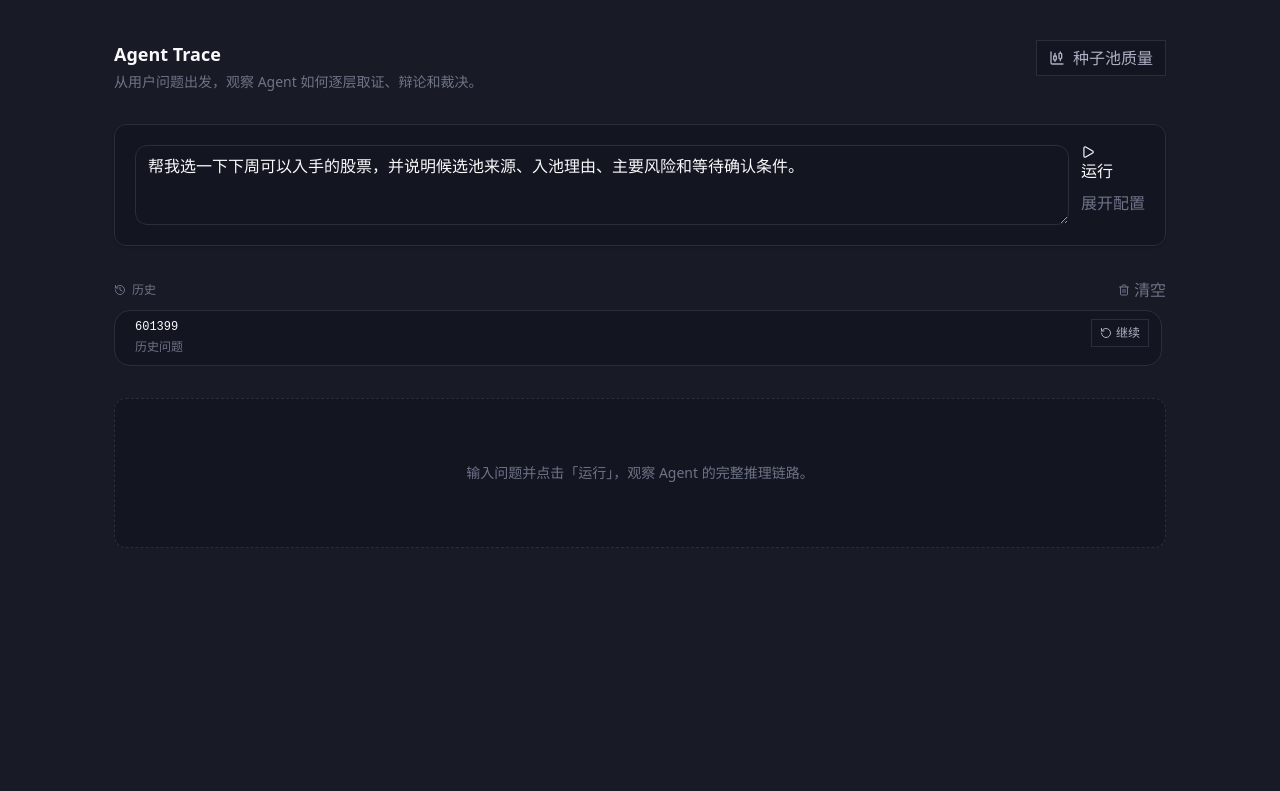
Test: AgentTracePage › loads a completed trace from local history
expect the text "历史" is shown: met, box 114,282 -> 156,298
Click the button "601399 历史问题" at (157, 327), box 127,319 -> 1083,357
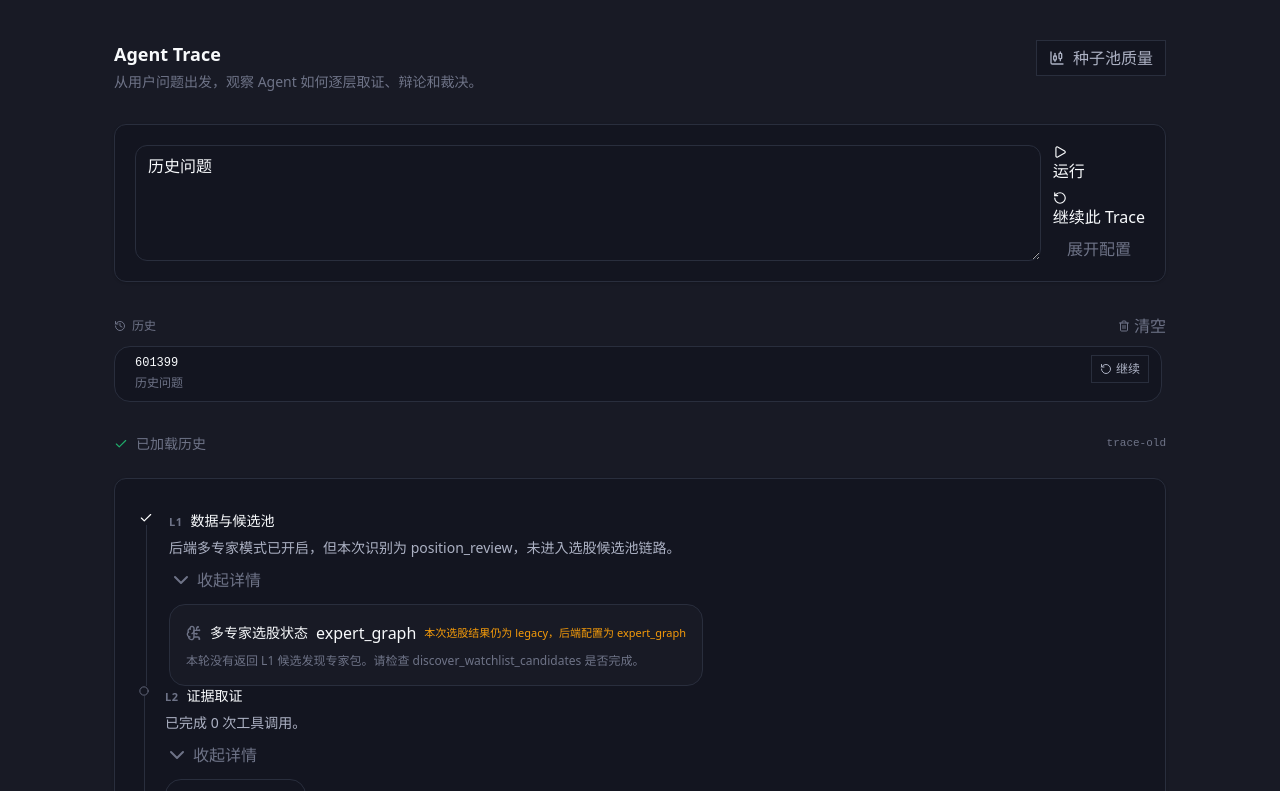
expect the text "已加载历史" is shown: met, box 136,434 -> 206,454
expect the text "expert_graph" is shown: met, box 316,621 -> 416,645
Click the button "展开配置" at (1099, 249), box 1053,237 -> 1145,261
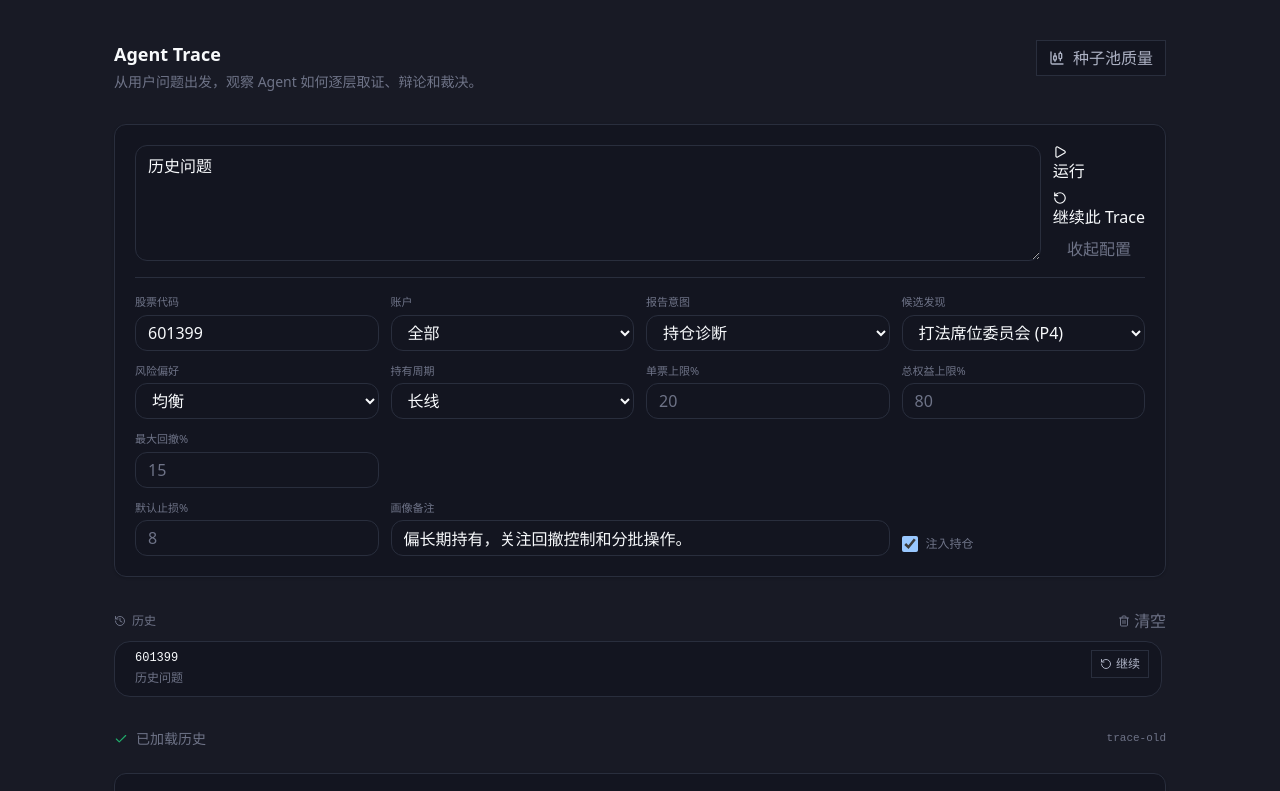
expect the field showing "601399" is shown: met, box 135,314 -> 378,350
